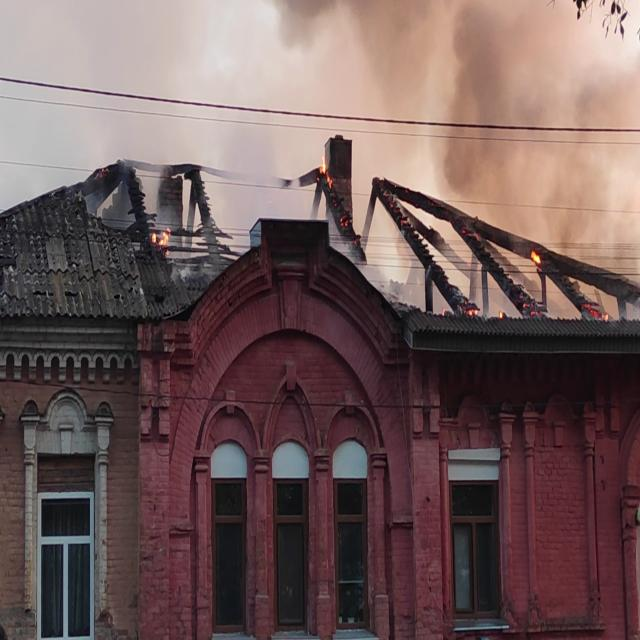fire: (522, 233, 557, 286), (314, 151, 342, 214), (148, 218, 178, 264)
smoke: (356, 0, 591, 203), (228, 144, 277, 220)
